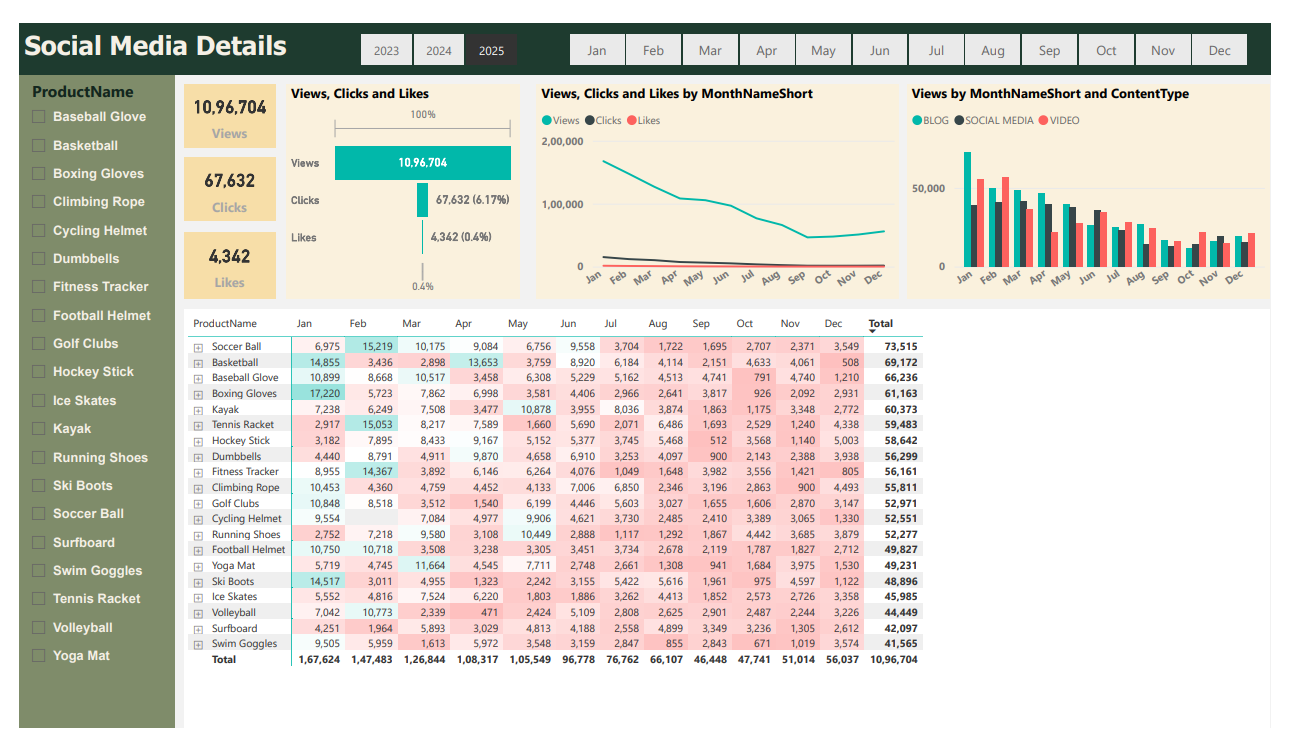

This screenshot's page, from the dashboard's own definition file:
{"tool":"powerbi","page":{"name":"Social Media Details","canvas":[1280,720],"ordinal":2},"visuals":[{"type":"textbox","box":[0,0,1280,52.6],"z":0},{"type":"slicer","fields":{"Values":["dim_products.ProductName"]},"box":[0,52.7,159.3,667.3],"z":1000},{"type":"lineChart","fields":{"Category":["Calendar.MonthNameShort"],"Y":["_Calculations.Views","_Calculations.Clicks","_Calculations.Likes"]},"box":[528.5,61.9,371.6,218.8],"z":2000},{"type":"funnel","fields":{"Y":["_Calculations.Views","_Calculations.Clicks","_Calculations.Likes"]},"box":[272.5,61.9,239.5,218.8],"z":3000},{"type":"card","fields":{"Values":["_Calculations.Views"]},"box":[168.3,61.9,93.9,65],"z":4000},{"type":"card","fields":{"Values":["_Calculations.Clicks"]},"box":[168.3,137.3,93.9,65],"z":5000},{"type":"card","fields":{"Values":["_Calculations.Likes"]},"box":[168.3,212.6,93.9,68.1],"z":6000},{"type":"slicer","fields":{"Values":["Calendar.MonthNameShort"]},"box":[536.8,4.1,743.2,44.4],"z":7000},{"type":"slicer","fields":{"Values":["Calendar.Year"]},"box":[324.1,4.1,208.5,44.4],"z":8000},{"type":"pivotTable","fields":{"Columns":["Calendar.MonthNameShort"],"Rows":["dim_products.ProductName","fact_engagement.ContentType"],"Values":["_Calculations.Views"]},"box":[168.3,292.1,1110.7,428.4],"z":9000},{"type":"clusteredColumnChart","fields":{"Category":["Calendar.MonthNameShort"],"Series":["fact_engagement.ContentType"],"Y":["_Calculations.Views"]},"box":[908.4,61.9,370.6,218.8],"z":10000}]}

Visuals, with their boxes on the page's 1280x720 design canvas (x1, y1, x2, y2). These are canvas units, not pixel positions in the 1290x750 screenshot, which may show the page scaled, cropped or inside an application window:
textbox: x1=0, y1=0, x2=1280, y2=53
slicer - dim_products.ProductName: x1=0, y1=53, x2=159, y2=720
lineChart - Calendar.MonthNameShort x _Calculations.Views: x1=528, y1=62, x2=900, y2=281
funnel - _Calculations.Views x _Calculations.Clicks: x1=272, y1=62, x2=512, y2=281
card - _Calculations.Views: x1=168, y1=62, x2=262, y2=127
card - _Calculations.Clicks: x1=168, y1=137, x2=262, y2=202
card - _Calculations.Likes: x1=168, y1=213, x2=262, y2=281
slicer - Calendar.MonthNameShort: x1=537, y1=4, x2=1280, y2=48
slicer - Calendar.Year: x1=324, y1=4, x2=533, y2=48
pivotTable - Calendar.MonthNameShort x dim_products.ProductName: x1=168, y1=292, x2=1279, y2=720
clusteredColumnChart - Calendar.MonthNameShort x fact_engagement.ContentType: x1=908, y1=62, x2=1279, y2=281
